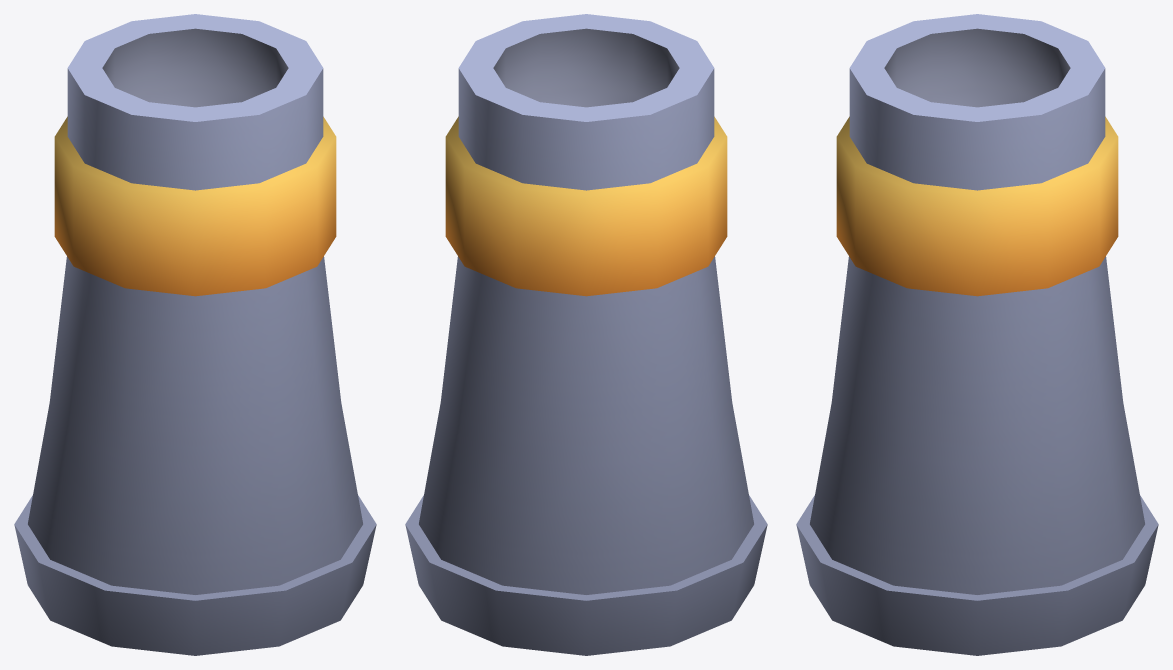
File: kenney-industrial_chimney-large.glb
3 views of the same model, side by side, from view 1: azimuth 30°, elevation 25°; view 2: azimuth 150°, elevation 25°; view 3: azimuth 270°, elevation 25° (orthographic).
Visible parts, largest first — view 1: chimney-large; view 2: chimney-large; view 3: chimney-large.
Boxes of the visible parts, bbox=[...] form: chimney-large: bbox=[14, 14, 376, 655]; chimney-large: bbox=[405, 14, 767, 655]; chimney-large: bbox=[796, 14, 1158, 655].
Bounding box in the file's own units: 1.08 × 1.7 × 1.08.
1 material, 1 textured.
